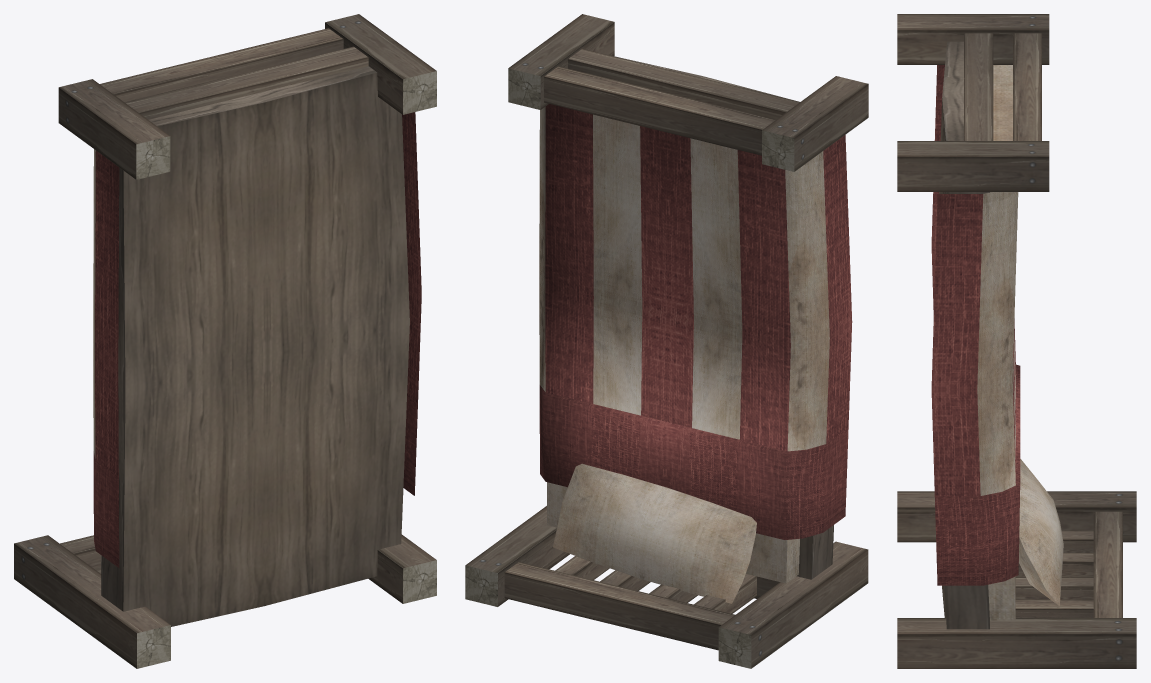
Rendered from Bed_02_C.fbx.
3 views of the same model, side by side, from view 1: azimuth 30°, elevation 25°; view 2: azimuth 150°, elevation 25°; view 3: azimuth 270°, elevation 25° (orthographic). The views are drawn at different scales.
Parts seen in each view (by area): view 1: Bed_02_C; view 2: Bed_02_C; view 3: Bed_02_C.
Boxes of the visible parts, x1,y1,x2,y2 form: Bed_02_C: (14, 14, 436, 668); Bed_02_C: (465, 14, 868, 668); Bed_02_C: (897, 14, 1136, 668).
Size of the model in its own units: 2.21 by 3.65 by 1.55.
